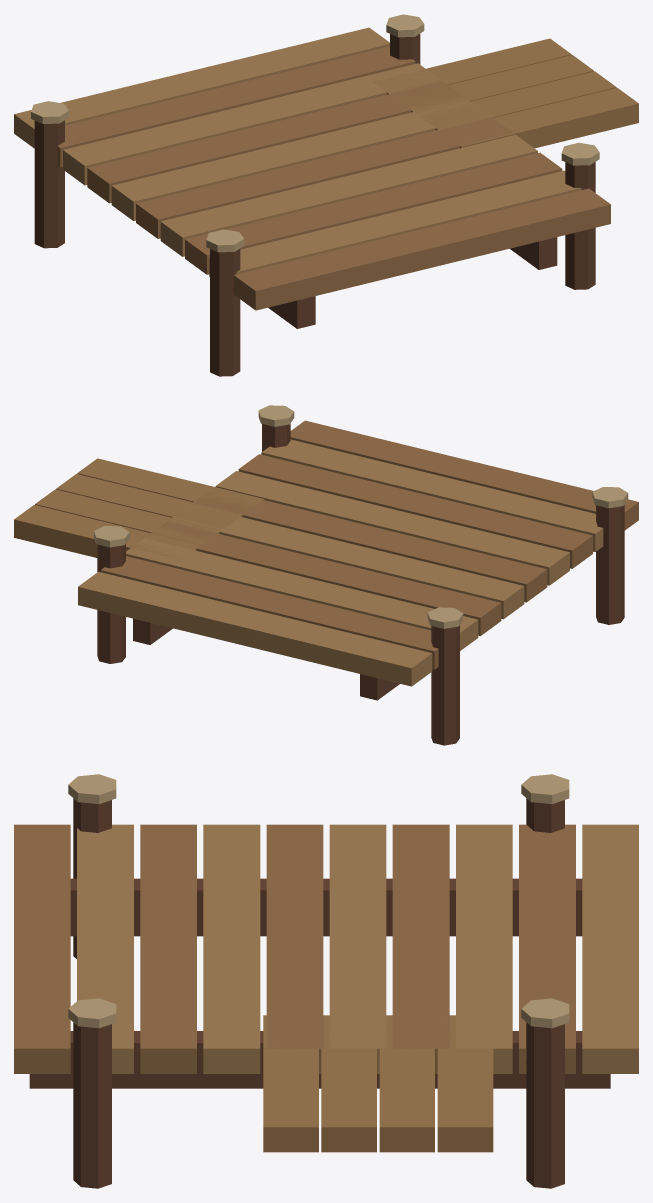
3 views of the same model, one above another, from view 1: azimuth 30°, elevation 25°; view 2: azimuth 150°, elevation 25°; view 3: azimuth 270°, elevation 25° (orthographic). The views are drawn at different scales.
Parts seen in each view (by area): view 1: H02_L形小码头; view 2: H02_L形小码头; view 3: H02_L形小码头.
Boxes of the visible parts, bbox=[...] form: H02_L形小码头: bbox=[14, 14, 638, 376]; H02_L形小码头: bbox=[14, 405, 638, 745]; H02_L形小码头: bbox=[14, 774, 638, 1188].
Bounding box in the file's own units: 2.93 × 0.75 × 2.47.
